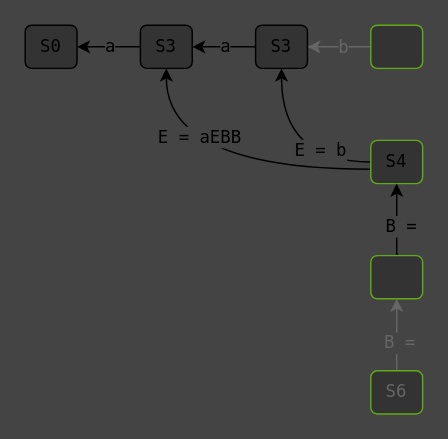
Image size: 448x439. Some labels were removed from this diagram. Each missing label, with the centre of its shape:
S2: (x=396, y=46)
S5: (x=396, y=276)
